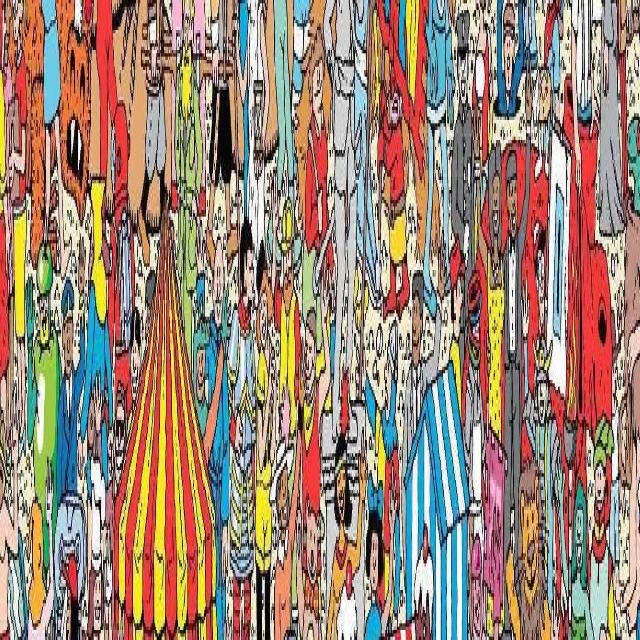waldo: (531, 210, 546, 330)
